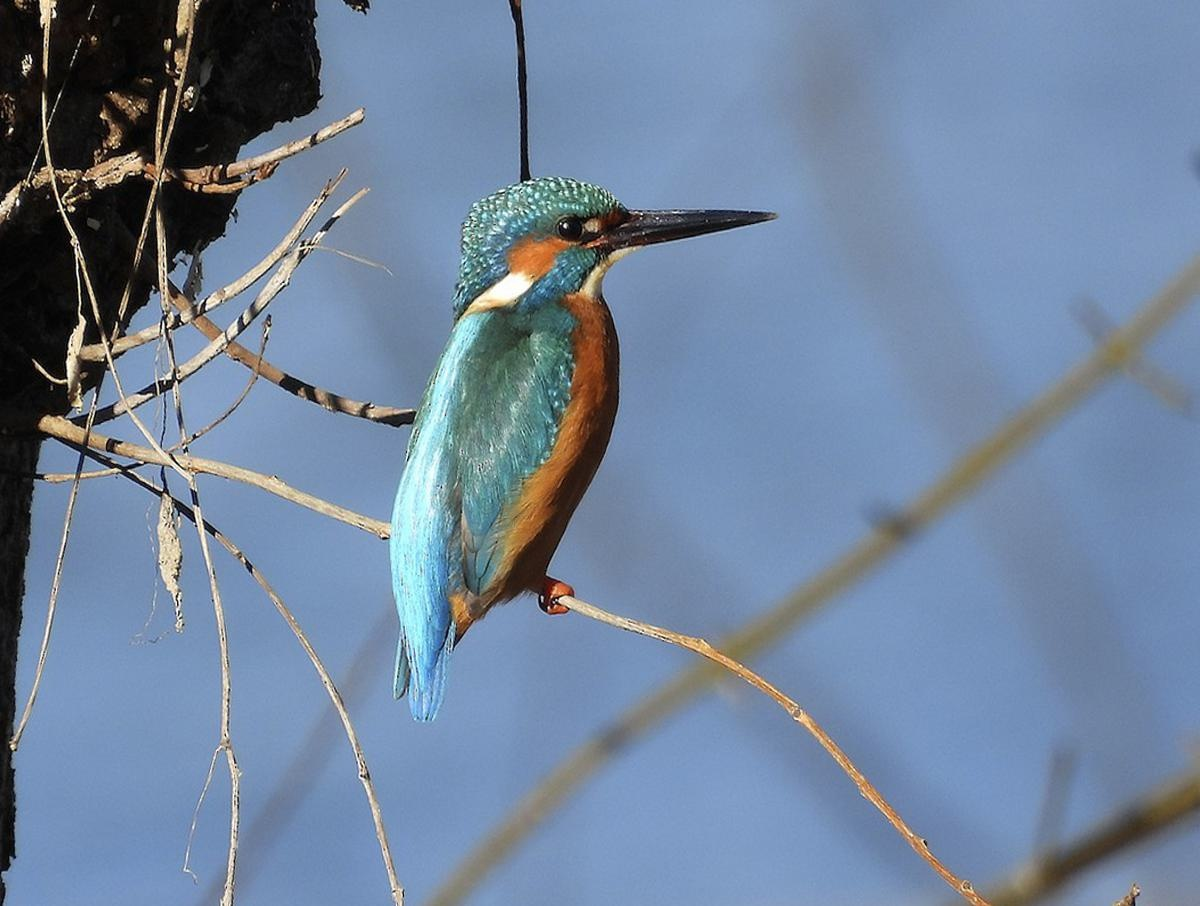kingfisher: (299, 165, 786, 714)
